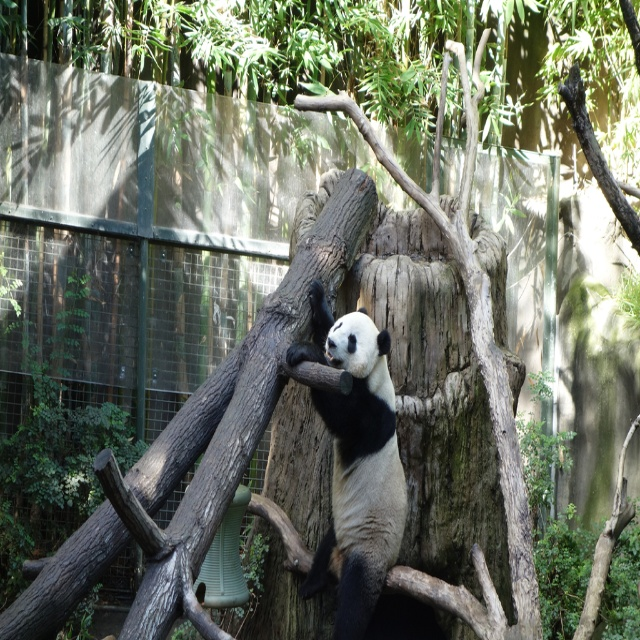Panda: (287, 277, 408, 638)
